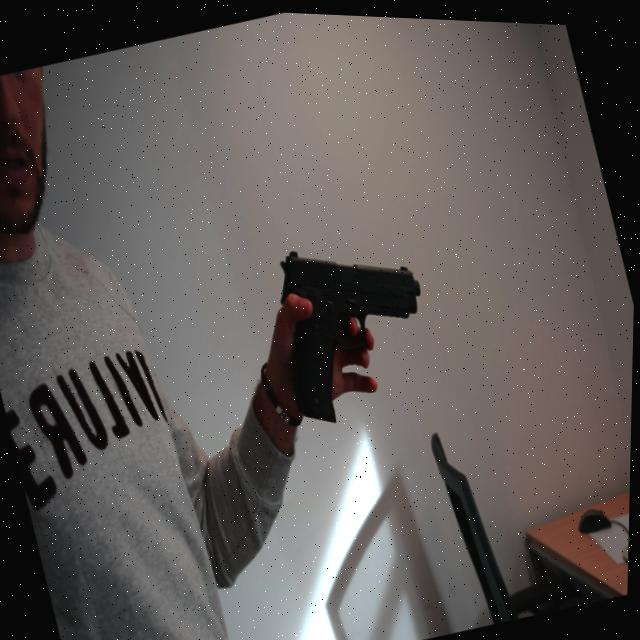pistol: (257, 219, 448, 431)
